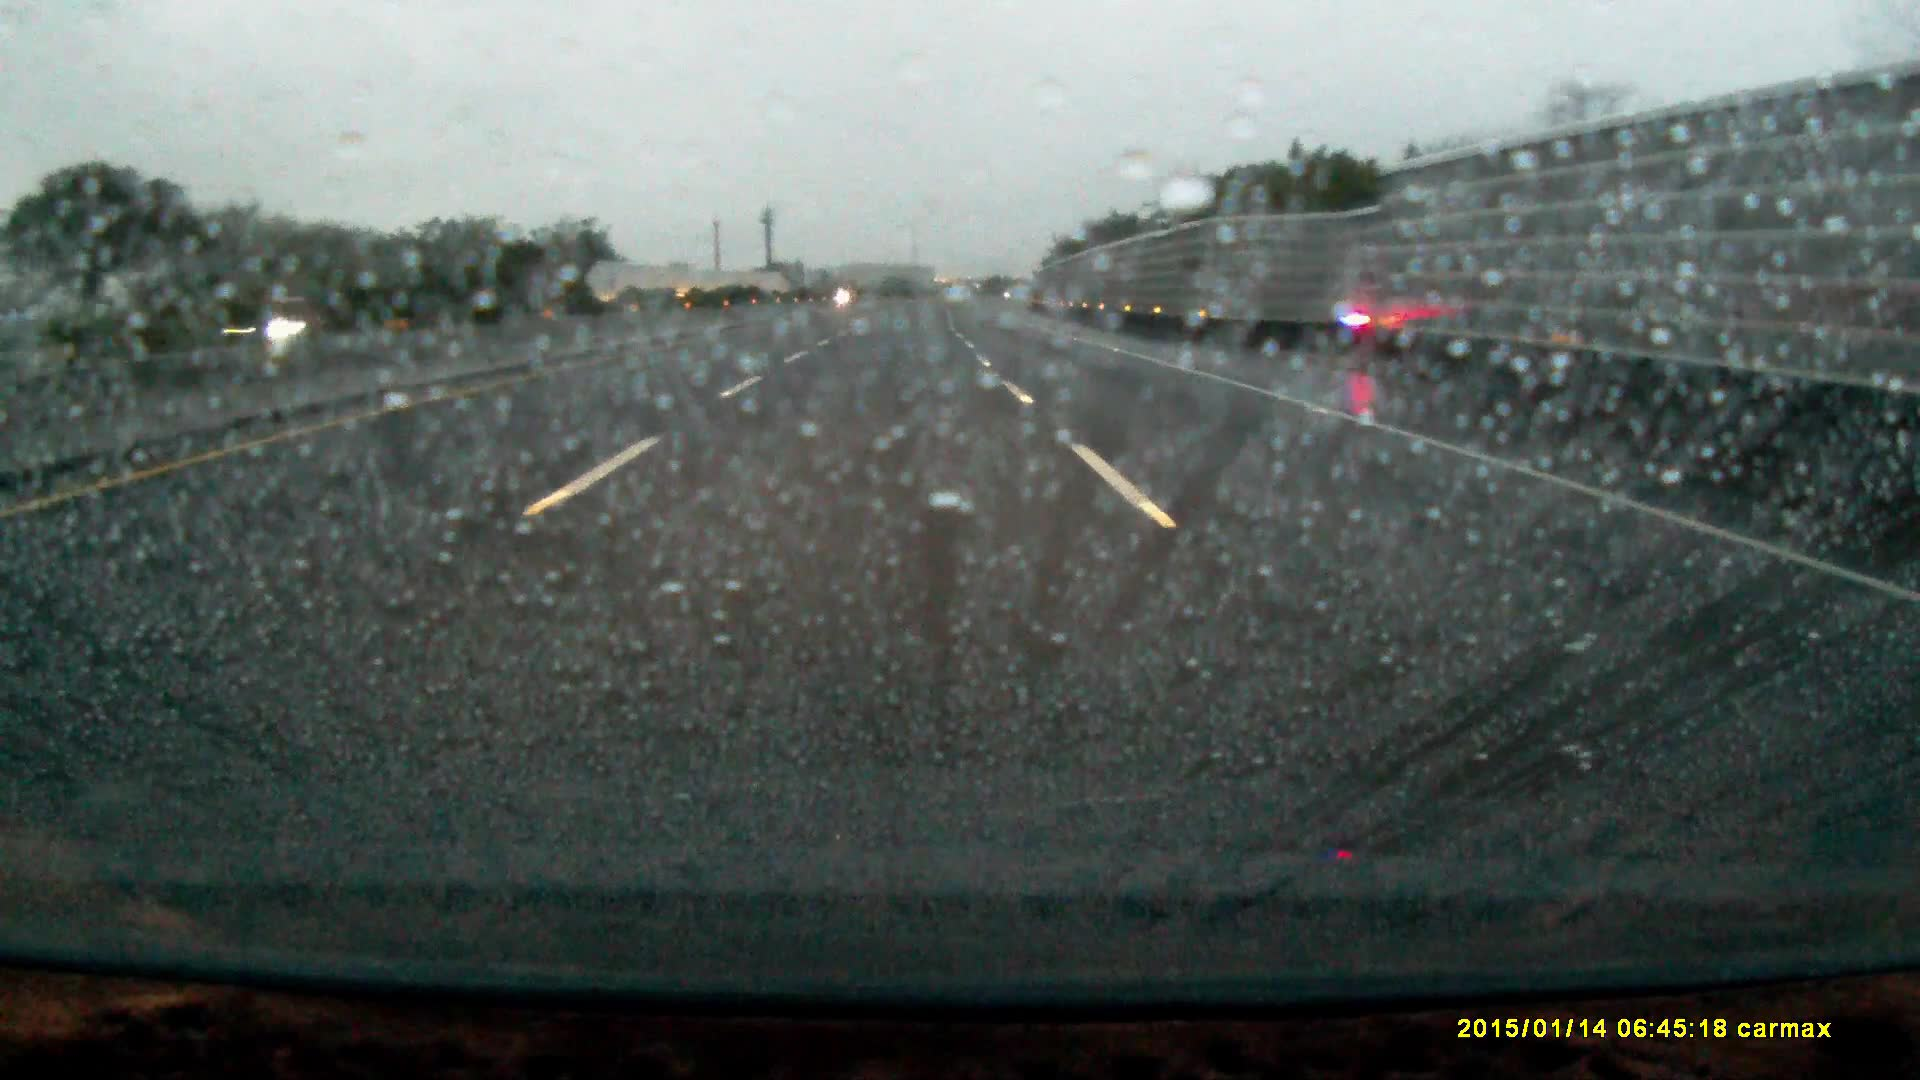vehicle: (204, 301, 320, 351)
